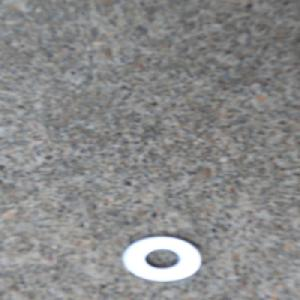Washer: (120, 234, 203, 282)
